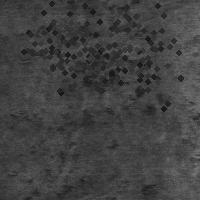rolled-in_scale: (8, 59, 143, 200), (86, 3, 200, 121), (8, 0, 120, 98), (79, 0, 189, 90), (62, 28, 128, 94)
